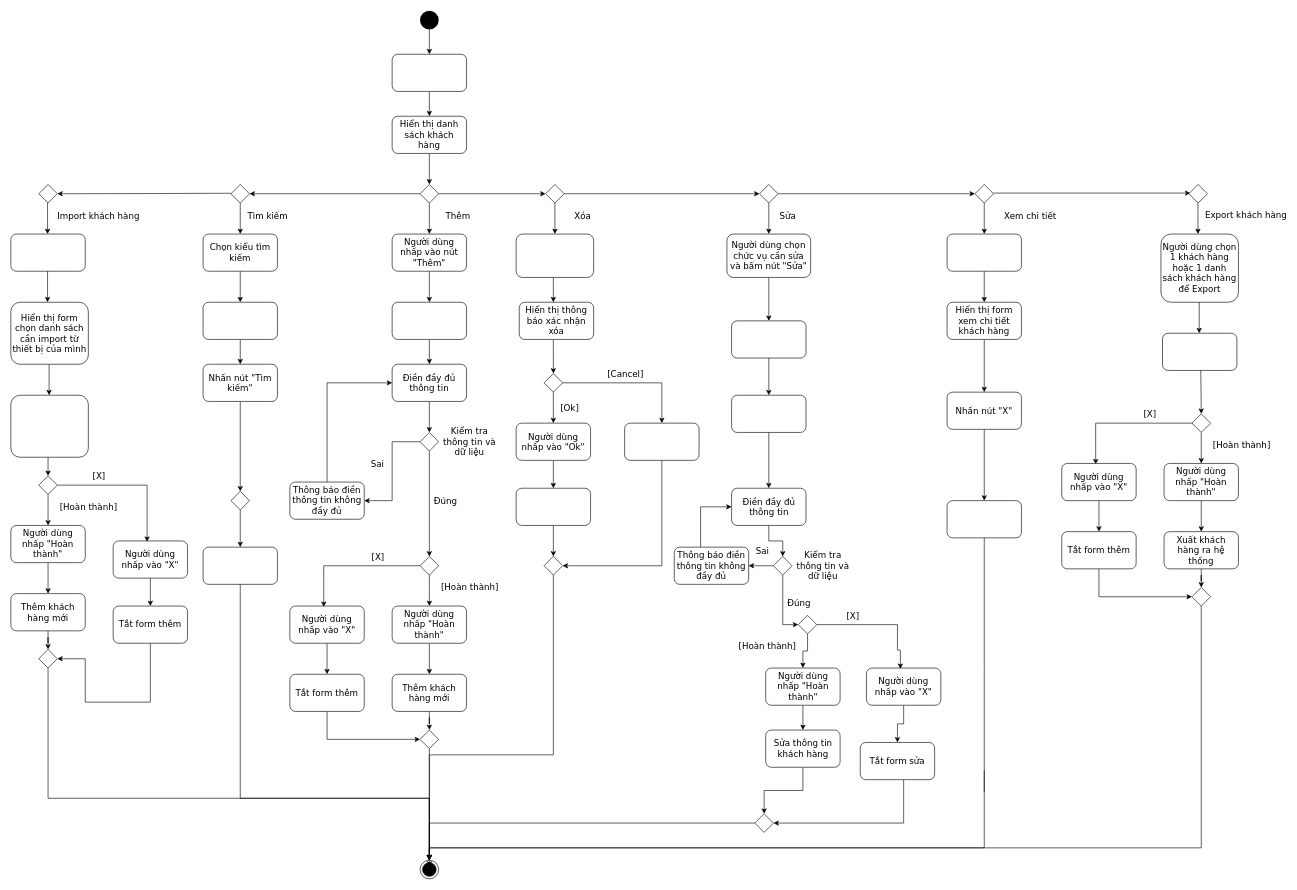
The diagram is 1297 pixels wide and 890 high, and some of its shapes have lost their labels. Each missing label, with the centre of its shape:
Chọn danh sách cần import: point 49,426
Hiển thị form sửa khách hàng: point 768,339
Hiển thị form thêm khách hàng: point 429,320
Hiển thị kết quả: point 239,565
Hệ thống export khách hàng ra ngoài thiết bị: point 1199,351
Người dùng chọn chức vụ cần xóa và bấm nút "Xóa": point 555,255
Người dùng chọn khách hàng cần xem chi tiết: point 983,252
Người dùng nhấp vào nút "Import": point 47,252
Người dùng nhập các thông tin cần sửa: point 768,413
Nhấp vào chức năng "Quản lý khách hàng": point 429,72
Nhập thông tin cần tìm: point 239,320
Tắt form xem chi tiết: point 983,519
Tắt thông báo xác nhận xóa: point 661,441
Xóa khách hàng: point 553,506
